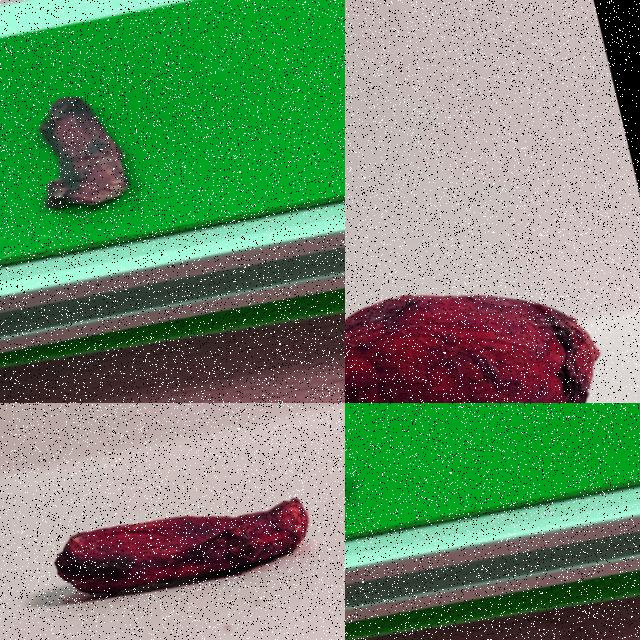Agglomerated_cocoabeans: (345, 197, 639, 402)
Flat_cocoabeans: (0, 422, 344, 639), (0, 38, 205, 264), (345, 405, 416, 577)
